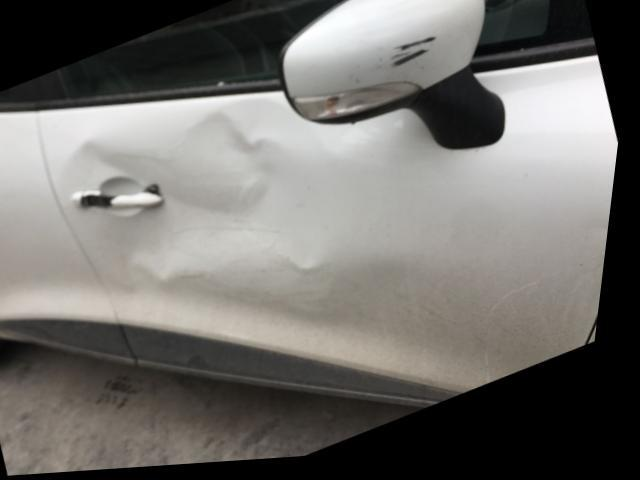dent: (58, 110, 283, 220), (127, 223, 187, 274)
